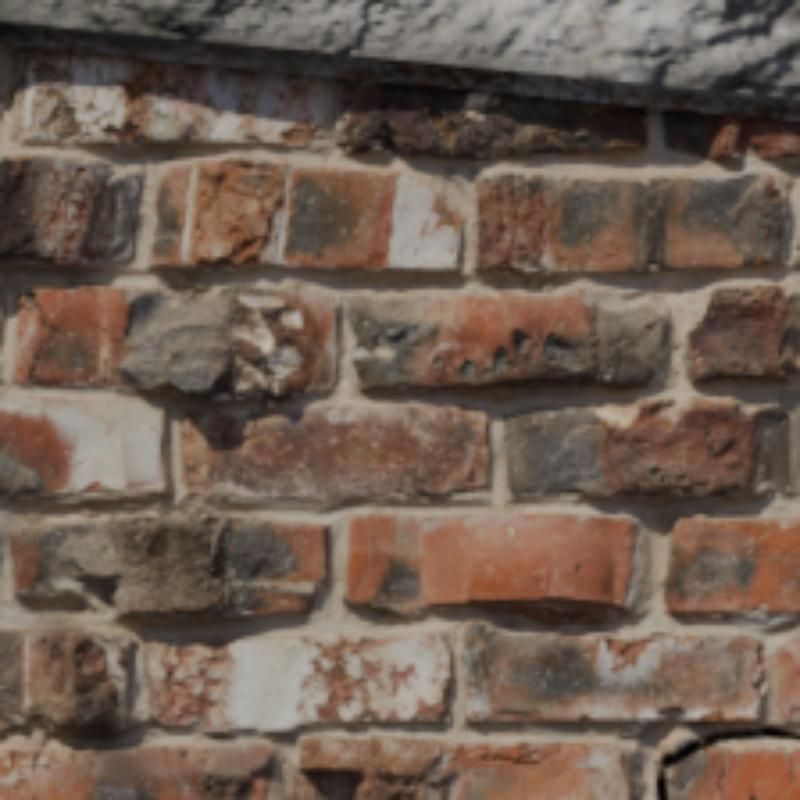crack: (658, 728, 796, 796)
